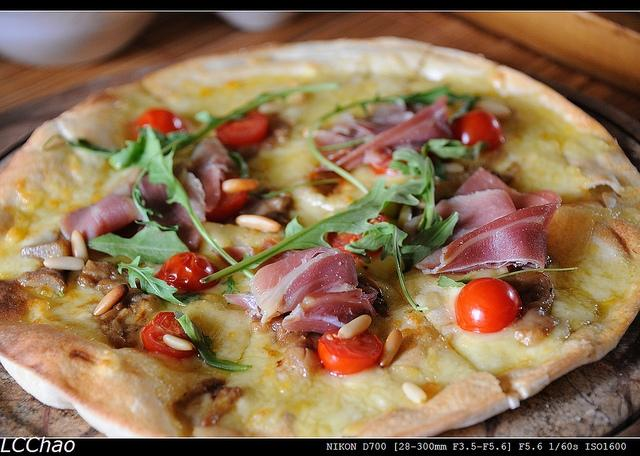tomato: (454, 277, 524, 333), (318, 327, 383, 376), (327, 214, 389, 259), (154, 252, 220, 293), (140, 312, 194, 358), (452, 109, 506, 151), (217, 109, 270, 149), (130, 108, 188, 140), (206, 184, 248, 221)
